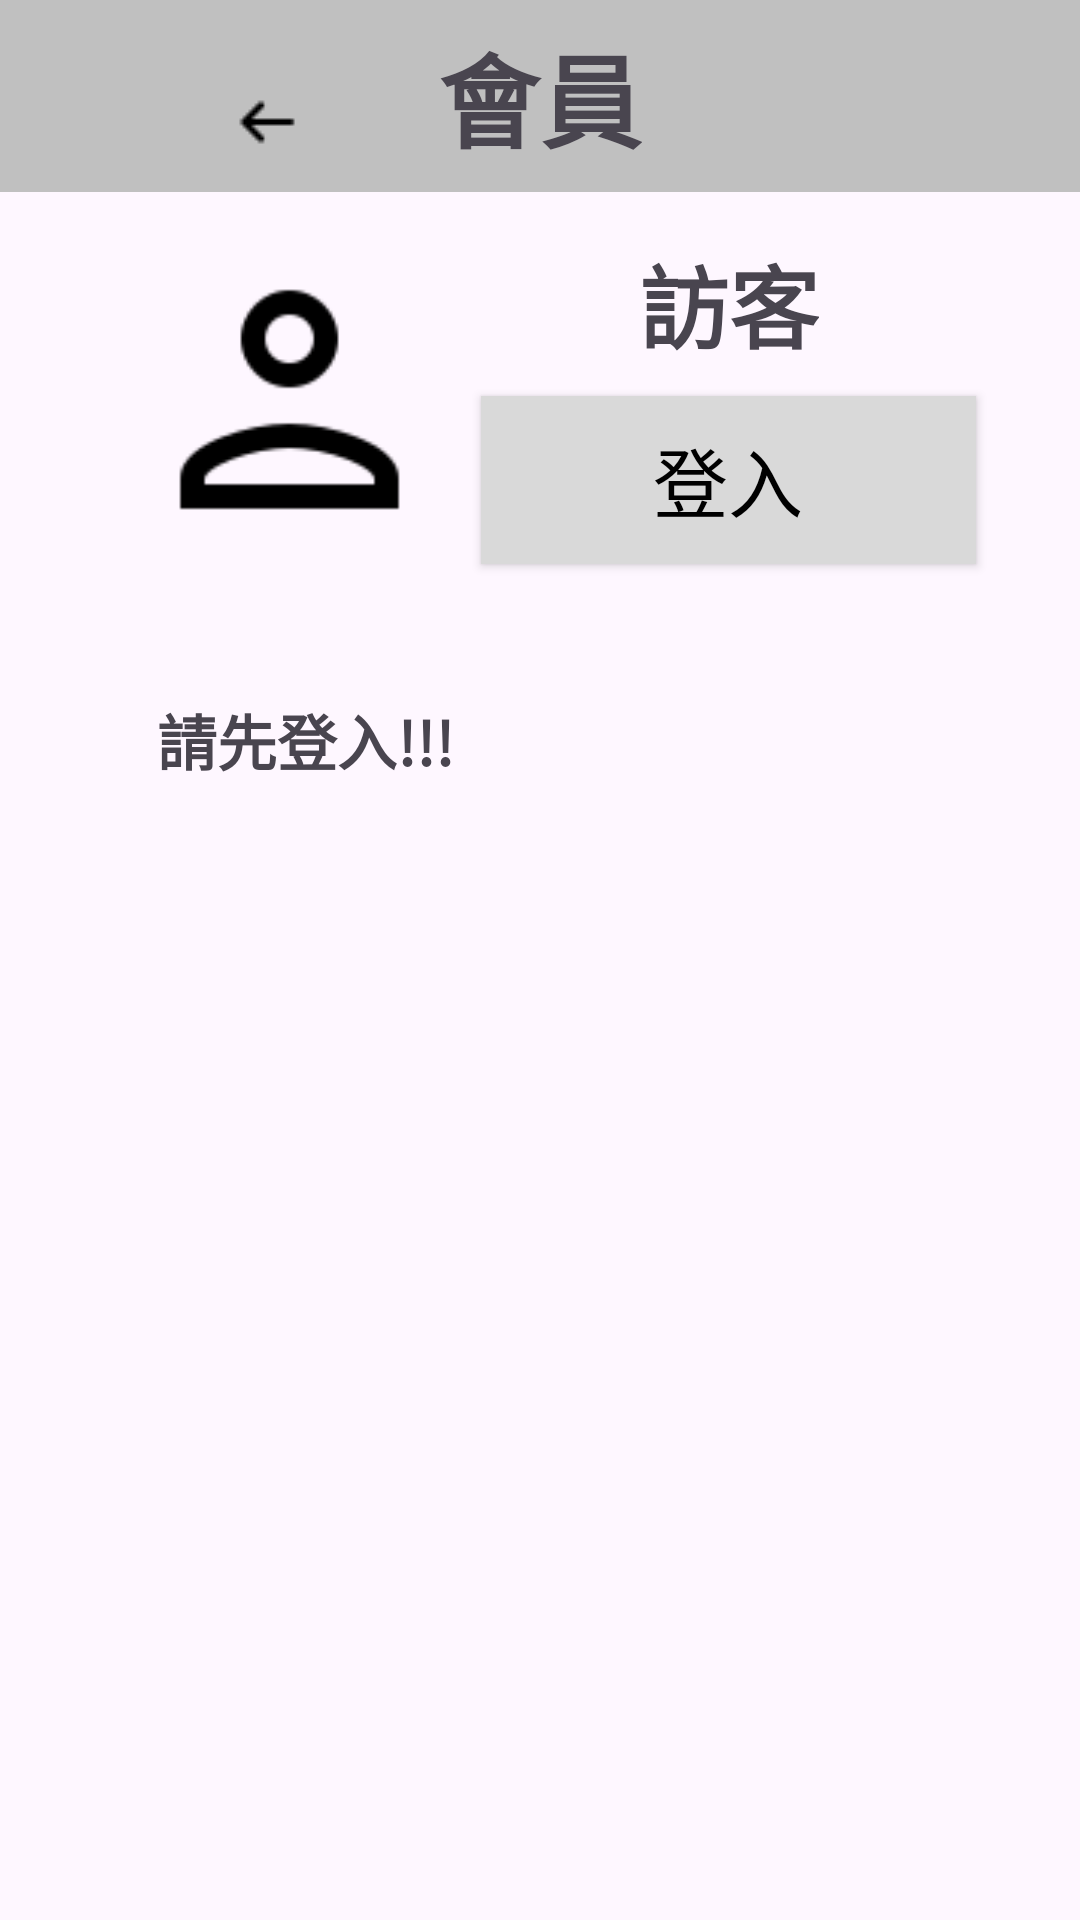

Named icons in this screenshot (1080*1920) and their bounding boxes, region(x1, y1, x2, y2):
arrow left: region(239, 100, 295, 144)
member: region(179, 289, 400, 510)
